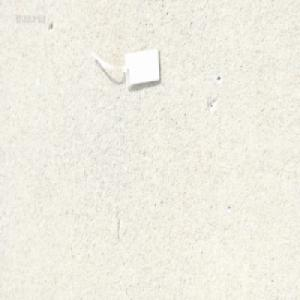LuggageTag: (89, 45, 161, 91)
